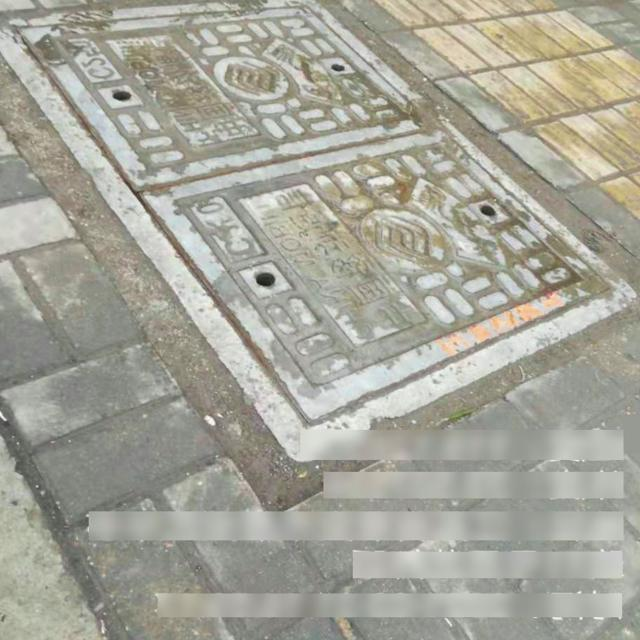good: (0, 0, 640, 465)
